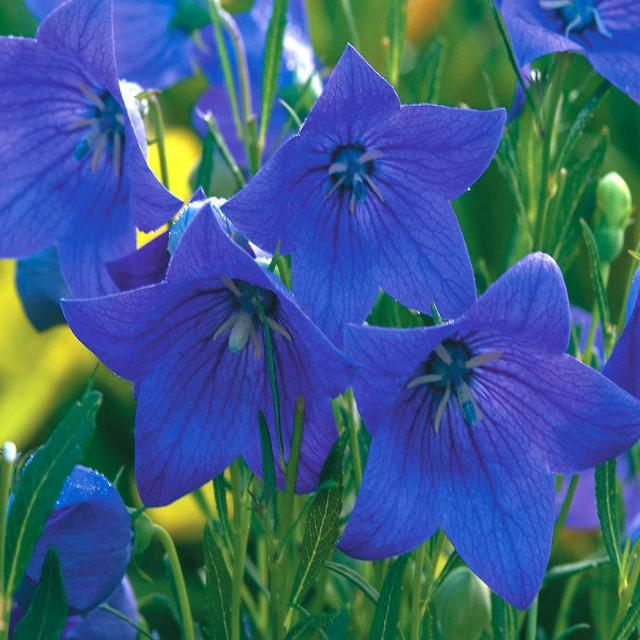organic waste: (325, 248, 635, 610), (51, 213, 356, 508), (212, 39, 511, 318), (2, 5, 168, 307), (16, 453, 148, 633)
